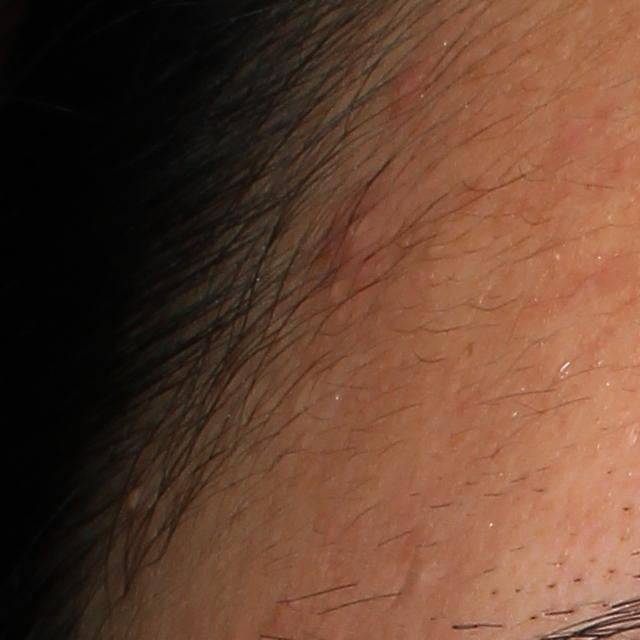comedo: (403, 563, 441, 593)
papule: (333, 204, 386, 253), (386, 57, 432, 113)
